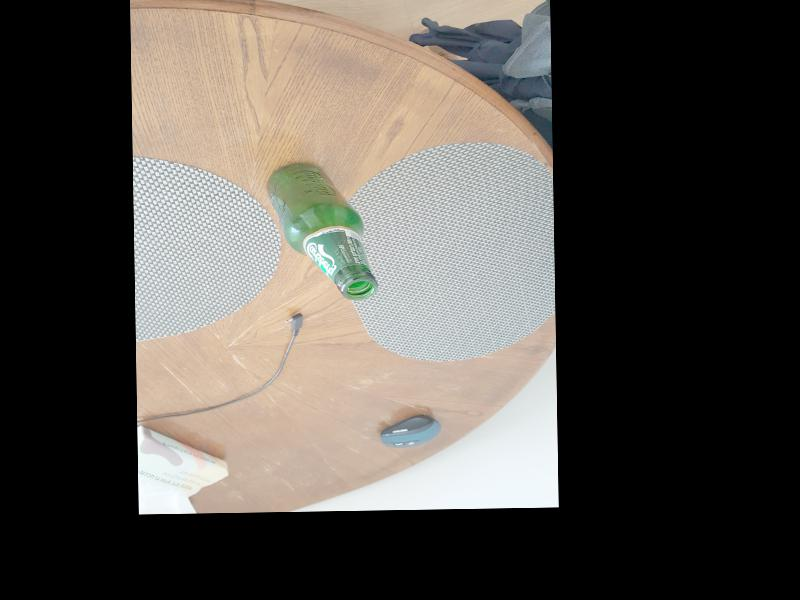Beer: (260, 158, 379, 301)
